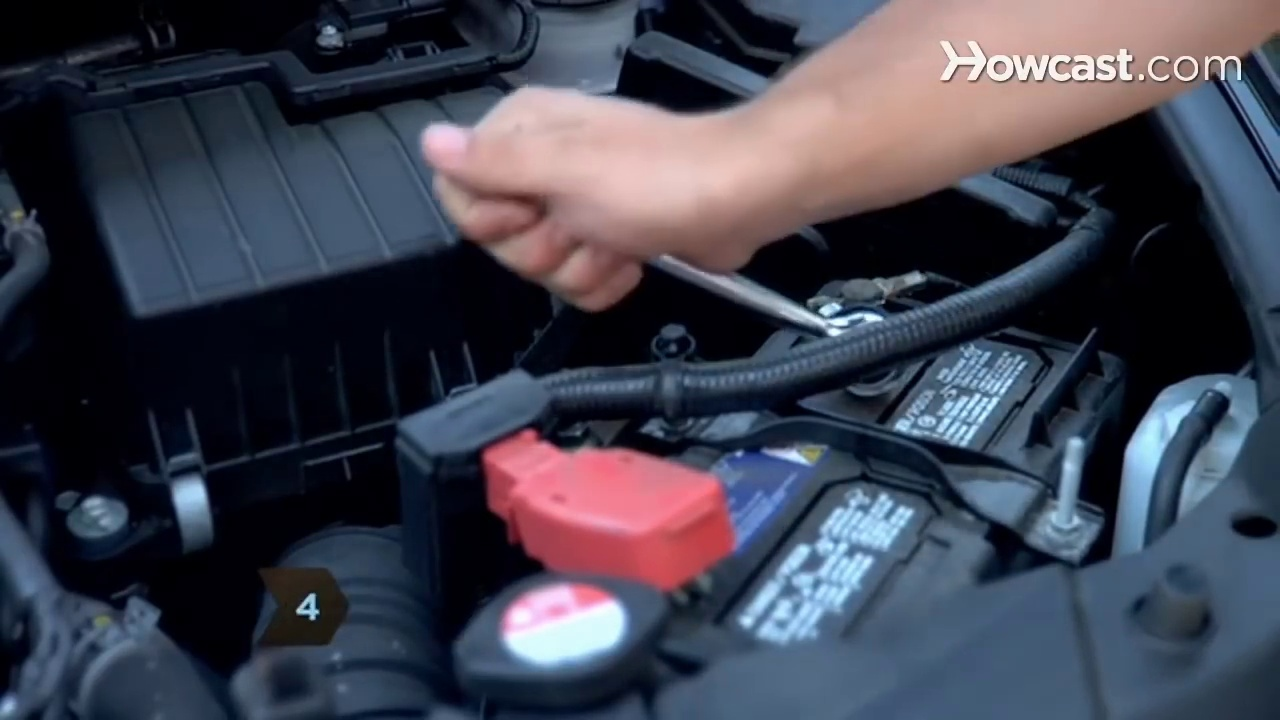battery: (494, 288, 1102, 644)
pos_connected: (467, 396, 750, 592)
